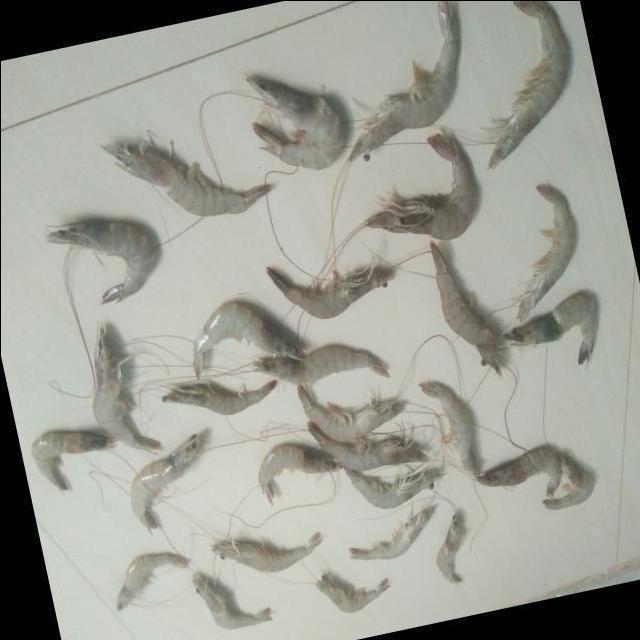shrimp: (349, 0, 459, 161), (489, 0, 570, 168), (101, 142, 270, 216), (367, 133, 476, 240), (430, 242, 507, 376), (46, 221, 155, 304), (246, 76, 343, 169), (91, 328, 160, 452), (192, 303, 304, 379), (518, 184, 576, 322), (129, 436, 200, 533), (266, 267, 395, 319), (505, 294, 599, 365), (297, 386, 405, 443), (307, 422, 429, 472), (420, 383, 479, 478), (254, 346, 389, 385), (30, 432, 114, 492), (258, 446, 341, 506), (212, 533, 322, 574), (349, 508, 434, 561), (192, 574, 271, 631), (477, 448, 563, 498), (114, 554, 188, 612), (161, 380, 276, 416), (344, 468, 442, 510), (316, 575, 390, 614), (544, 457, 595, 510), (437, 514, 467, 586)
